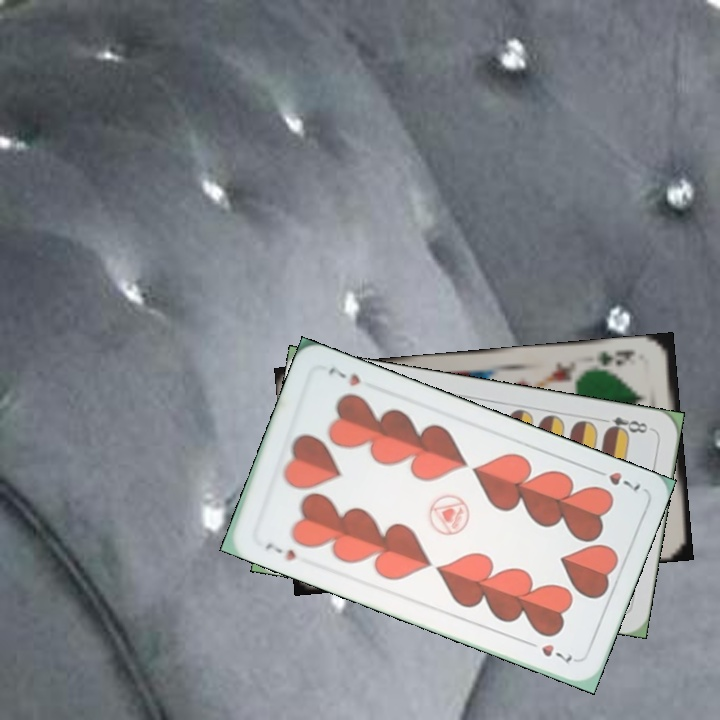E8: (596, 413, 655, 438)
GK: (592, 345, 637, 369)
H7: (588, 464, 643, 493), (261, 538, 299, 564)
